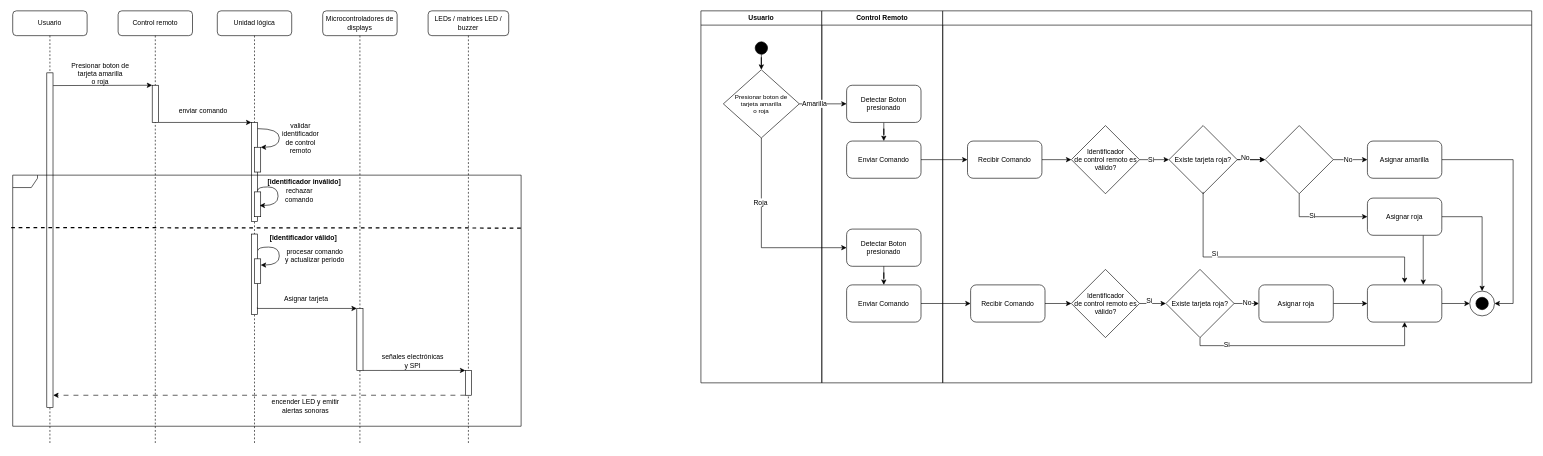
Image size: 1543x456. Some labels were removed from this diagram. Each missing label, with the box of its shape:
alt: (12, 175, 521, 426)
Aumentar puntos al esgrimista contrario: (1367, 284, 1442, 322)
Existe tarjeta amarilla?: (1264, 125, 1333, 194)
Máquina de puntaje: (942, 10, 1532, 383)
